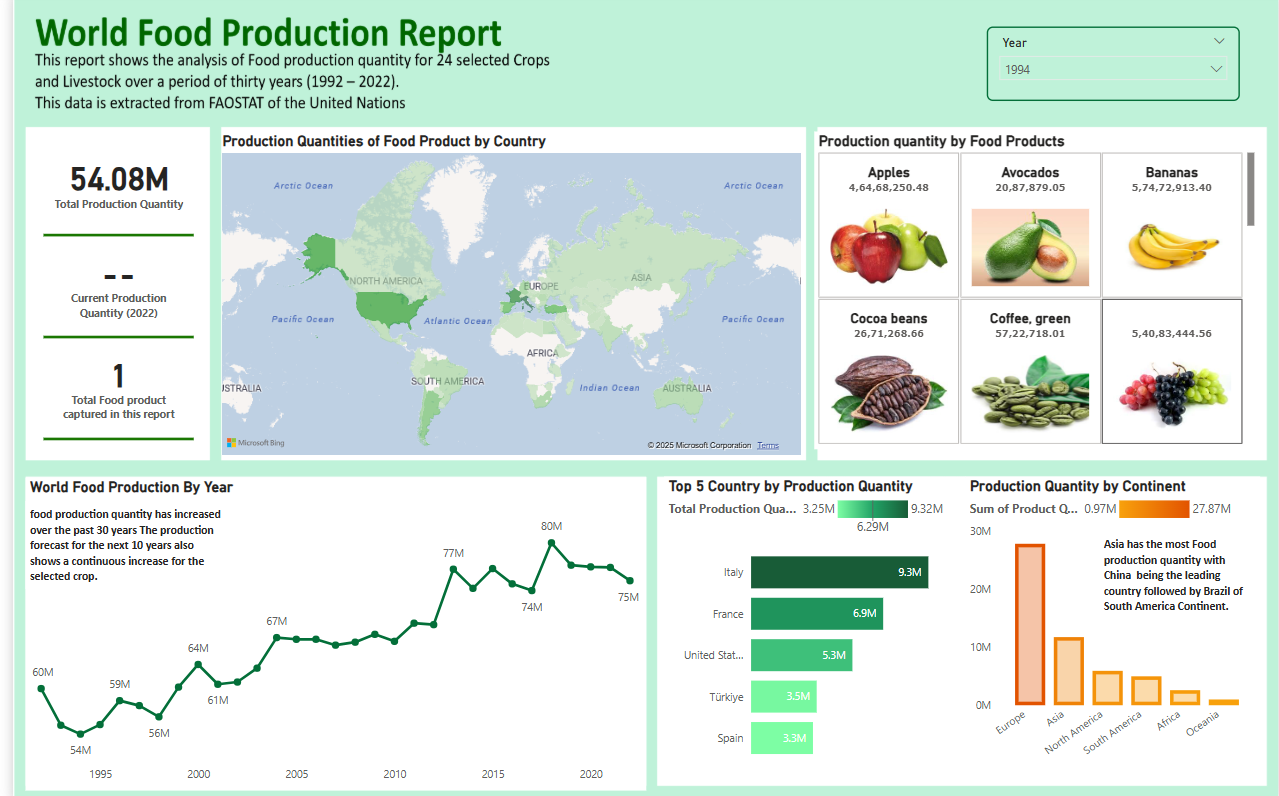

The page's visual inventory and layout, read from the dashboard file:
{"tool":"powerbi","page":{"name":"Page 1","canvas":[1440,920],"ordinal":0},"visuals":[{"type":"cardVisual","fields":{"Data":["FAOSTAT_data_en_11-12-2024.Total Production Quantity","FAOSTAT_data_en_11-12-2024.Current production Quantity","FAOSTAT_data_en_11-12-2024.Total Food Products"]},"box":[29.3,155.7,181.9,360.7],"z":0},{"type":"filledMap","title":"Production Quantities of Food Product by Country ","fields":{"Category":["FAOSTAT_data_en_11-12-2024.Country"]},"box":[233.1,155.9,668.4,373.6],"z":1000},{"type":"advancedSlicerVisual","title":"Production quantity by Food Products","fields":{"Values":["Food Products.Food Products"]},"box":[912.4,155.9,506.3,361.2],"z":2000},{"type":"lineChart","title":"World Food Production By Year","fields":{"Y":["FAOSTAT_data_en_11-12-2024.Total Production Quantity"],"Category":["FAOSTAT_data_en_11-12-2024.Year.Variation.Date Hierarchy.Year","FAOSTAT_data_en_11-12-2024.Year.Variation.Date Hierarchy.Quarter","FAOSTAT_data_en_11-12-2024.Year.Variation.Date Hierarchy.Month","FAOSTAT_data_en_11-12-2024.Year.Variation.Date Hierarchy.Day"]},"box":[13.9,550.3,706,356.1],"z":3000},{"type":"clusteredBarChart","title":"Top 5 Country by Production Quantity","fields":{"Category":["FAOSTAT_data_en_11-12-2024.Country"],"Y":["FAOSTAT_data_en_11-12-2024.Total Production Quantity"]},"box":[741,549.6,342.7,341.2],"z":4000},{"type":"clusteredColumnChart","title":"Production Quantity by Continent","fields":{"Category":["country-continent.Continent"],"Y":["FAOSTAT_data_en_11-12-2024.Total Production Quantity"]},"box":[1083.7,549.6,335,341.2],"z":5000},{"type":"textbox","box":[1236.3,612,181.9,109.5],"z":6000},{"type":"textbox","box":[14.2,577.5,230.4,99.6],"z":7000},{"type":"slicer","fields":{"Values":["FAOSTAT_data_en_11-12-2024.Year"]},"box":[1108.4,37,288.3,85],"z":8000}]}

Visuals, with their boxes in screenshot pixels (x1, y1, x2, y2), scaled from the page's 1440x920 canvas onto the 1279x796 screenshot:
cardVisual - FAOSTAT_data_en_11-12-2024.Total Production Quantity x FAOSTAT_data_en_11-12-2024.Current production Quantity: (26, 135, 188, 447)
"Production Quantities of Food Product by Country " filledMap: (207, 135, 801, 458)
"Production quantity by Food Products" advancedSlicerVisual: (810, 135, 1260, 447)
"World Food Production By Year" lineChart: (12, 476, 639, 784)
"Top 5 Country by Production Quantity" clusteredBarChart: (658, 476, 963, 771)
"Production Quantity by Continent" clusteredColumnChart: (963, 476, 1260, 771)
textbox: (1098, 530, 1260, 624)
textbox: (13, 500, 217, 586)
slicer - FAOSTAT_data_en_11-12-2024.Year: (984, 32, 1241, 106)
